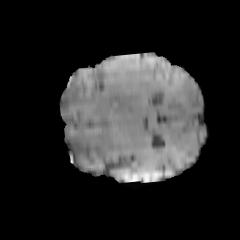glioma: (92, 54, 169, 113)
